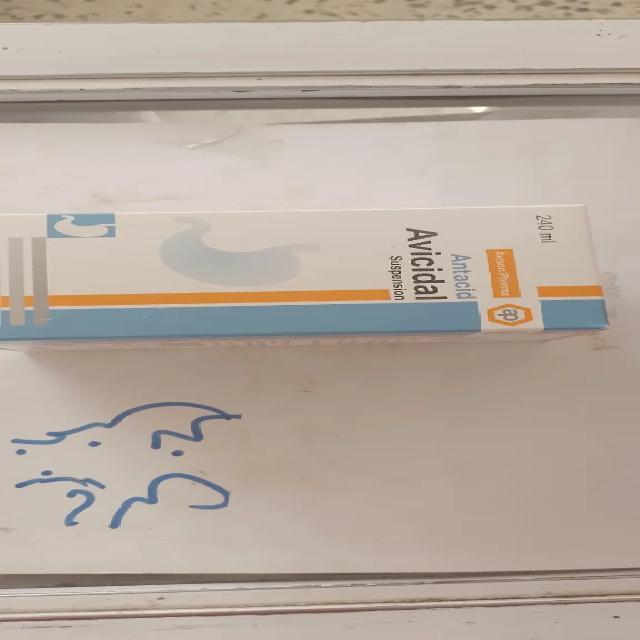drug-name: (404, 219, 448, 305)
